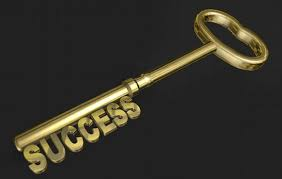kicharina: (10, 5, 270, 175)
